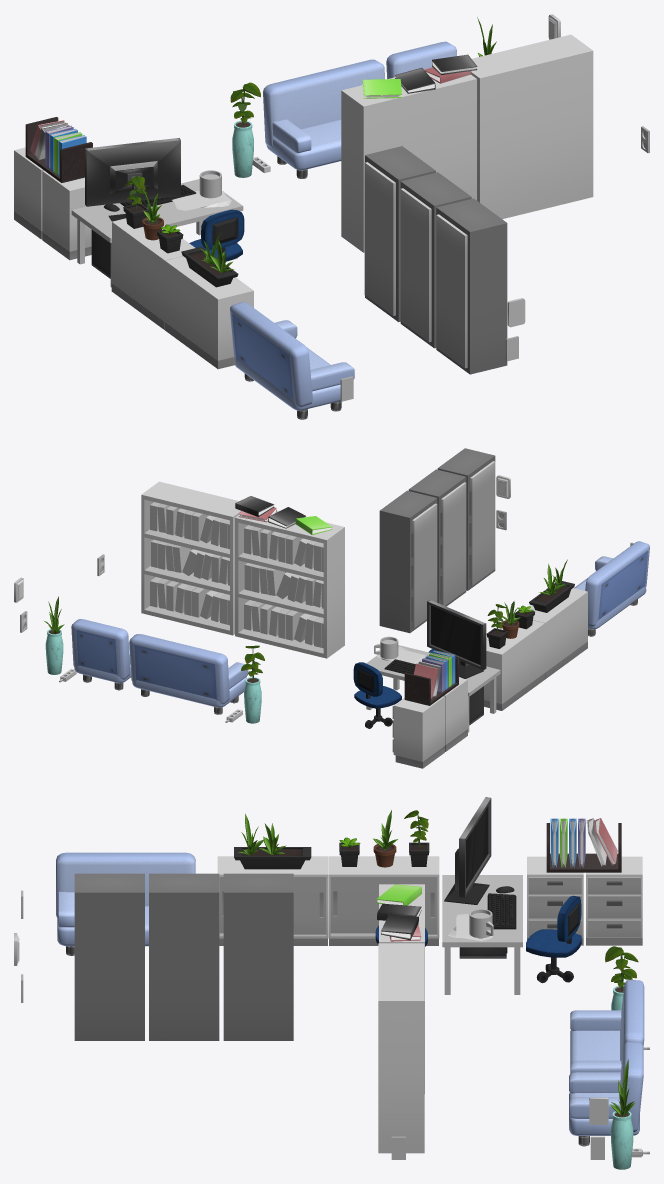
Rendered from Room15Set1.FBX.
3 renders of one model, top to bottom at view 1: azimuth 30°, elevation 25°; view 2: azimuth 150°, elevation 25°; view 3: azimuth 270°, elevation 25°, orthographic. The views are drawn at different scales.
Parts seen in each view (by area): view 1: bookshelf041, bookshelf040, ChamferBox021, ChamferBox020, chestbox107, chestbox100, Box570, chestbox099, chestdoor003, chestdoor004, chestdoor005, chestbox097 (+16 smaller); view 2: bookshelf040, Books016, Books017, bookshelf041, ChamferBox021, chestbox109, ChamferBox020, chestbox099, ChamferBox005, chestbox096, Box570, chestbox100 (+16 smaller); view 3: chestbox107, chestbox108, chestbox109, bookshelf041, ChamferBox020, ChamferBox021, ChamferBox005, Box572, chestbox099, Box570, Object178, Box574 (+22 smaller).
Boxes of the visible parts, x1,y1,x2,y2 form: bookshelf041: (471, 34, 593, 219); bookshelf040: (341, 74, 476, 252); ChamferBox021: (263, 59, 384, 178); ChamferBox020: (230, 302, 354, 419); chestbox107: (436, 198, 507, 374); chestbox100: (165, 256, 253, 369); Box570: (85, 138, 180, 221); chestbox099: (111, 218, 194, 329); chestdoor003: (436, 214, 467, 368); chestdoor004: (400, 188, 431, 342); chestdoor005: (364, 162, 395, 315); chestbox097: (42, 170, 91, 260); bookshelf040: (235, 510, 344, 658); Books016: (244, 525, 323, 648); Books017: (150, 502, 229, 625); bookshelf041: (141, 481, 240, 635); ChamferBox021: (129, 634, 248, 714); chestbox109: (379, 490, 437, 633); ChamferBox020: (574, 541, 649, 636); chestbox099: (484, 618, 544, 710); ChamferBox005: (71, 619, 131, 690); chestbox096: (393, 696, 444, 768); Box570: (427, 600, 486, 678); chestbox100: (528, 588, 587, 679); chestbox107: (74, 873, 144, 1040); chestbox108: (149, 873, 219, 1040); chestbox109: (223, 873, 293, 1040); bookshelf041: (378, 943, 424, 1153); ChamferBox020: (56, 852, 195, 955); ChamferBox021: (570, 979, 644, 1073); ChamferBox005: (569, 1041, 643, 1146); Box572: (442, 875, 522, 994); chestbox099: (328, 856, 439, 945); Box570: (444, 797, 491, 904); Object178: (330, 877, 383, 933); Box574: (526, 895, 581, 983).
Size of the model in its own units: 77.86 by 23.29 by 78.56.
